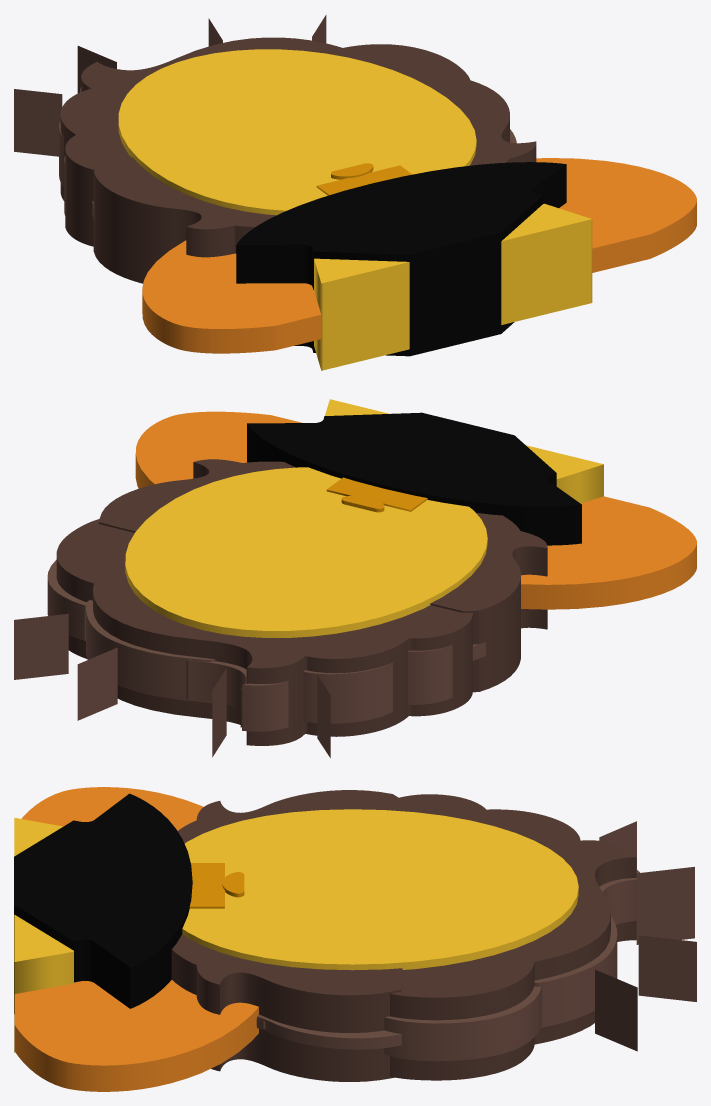
Rendered from emoji_u1f647.glb.
The picture shows the model from 3 angles, top to bottom: view 1: azimuth 30°, elevation 25°; view 2: azimuth 150°, elevation 25°; view 3: azimuth 270°, elevation 25°; orthographic projection. The views are drawn at different scales.
Parts seen in each view (by area): view 1: emoji_u1f647; view 2: emoji_u1f647; view 3: emoji_u1f647.
Part boxes in pixels (bbox=[...]): emoji_u1f647: bbox=[14, 15, 696, 370]; emoji_u1f647: bbox=[14, 399, 696, 757]; emoji_u1f647: bbox=[14, 787, 696, 1091].
Bounding box in the file's own units: 0.0317 × 0.0058 × 0.0328.
